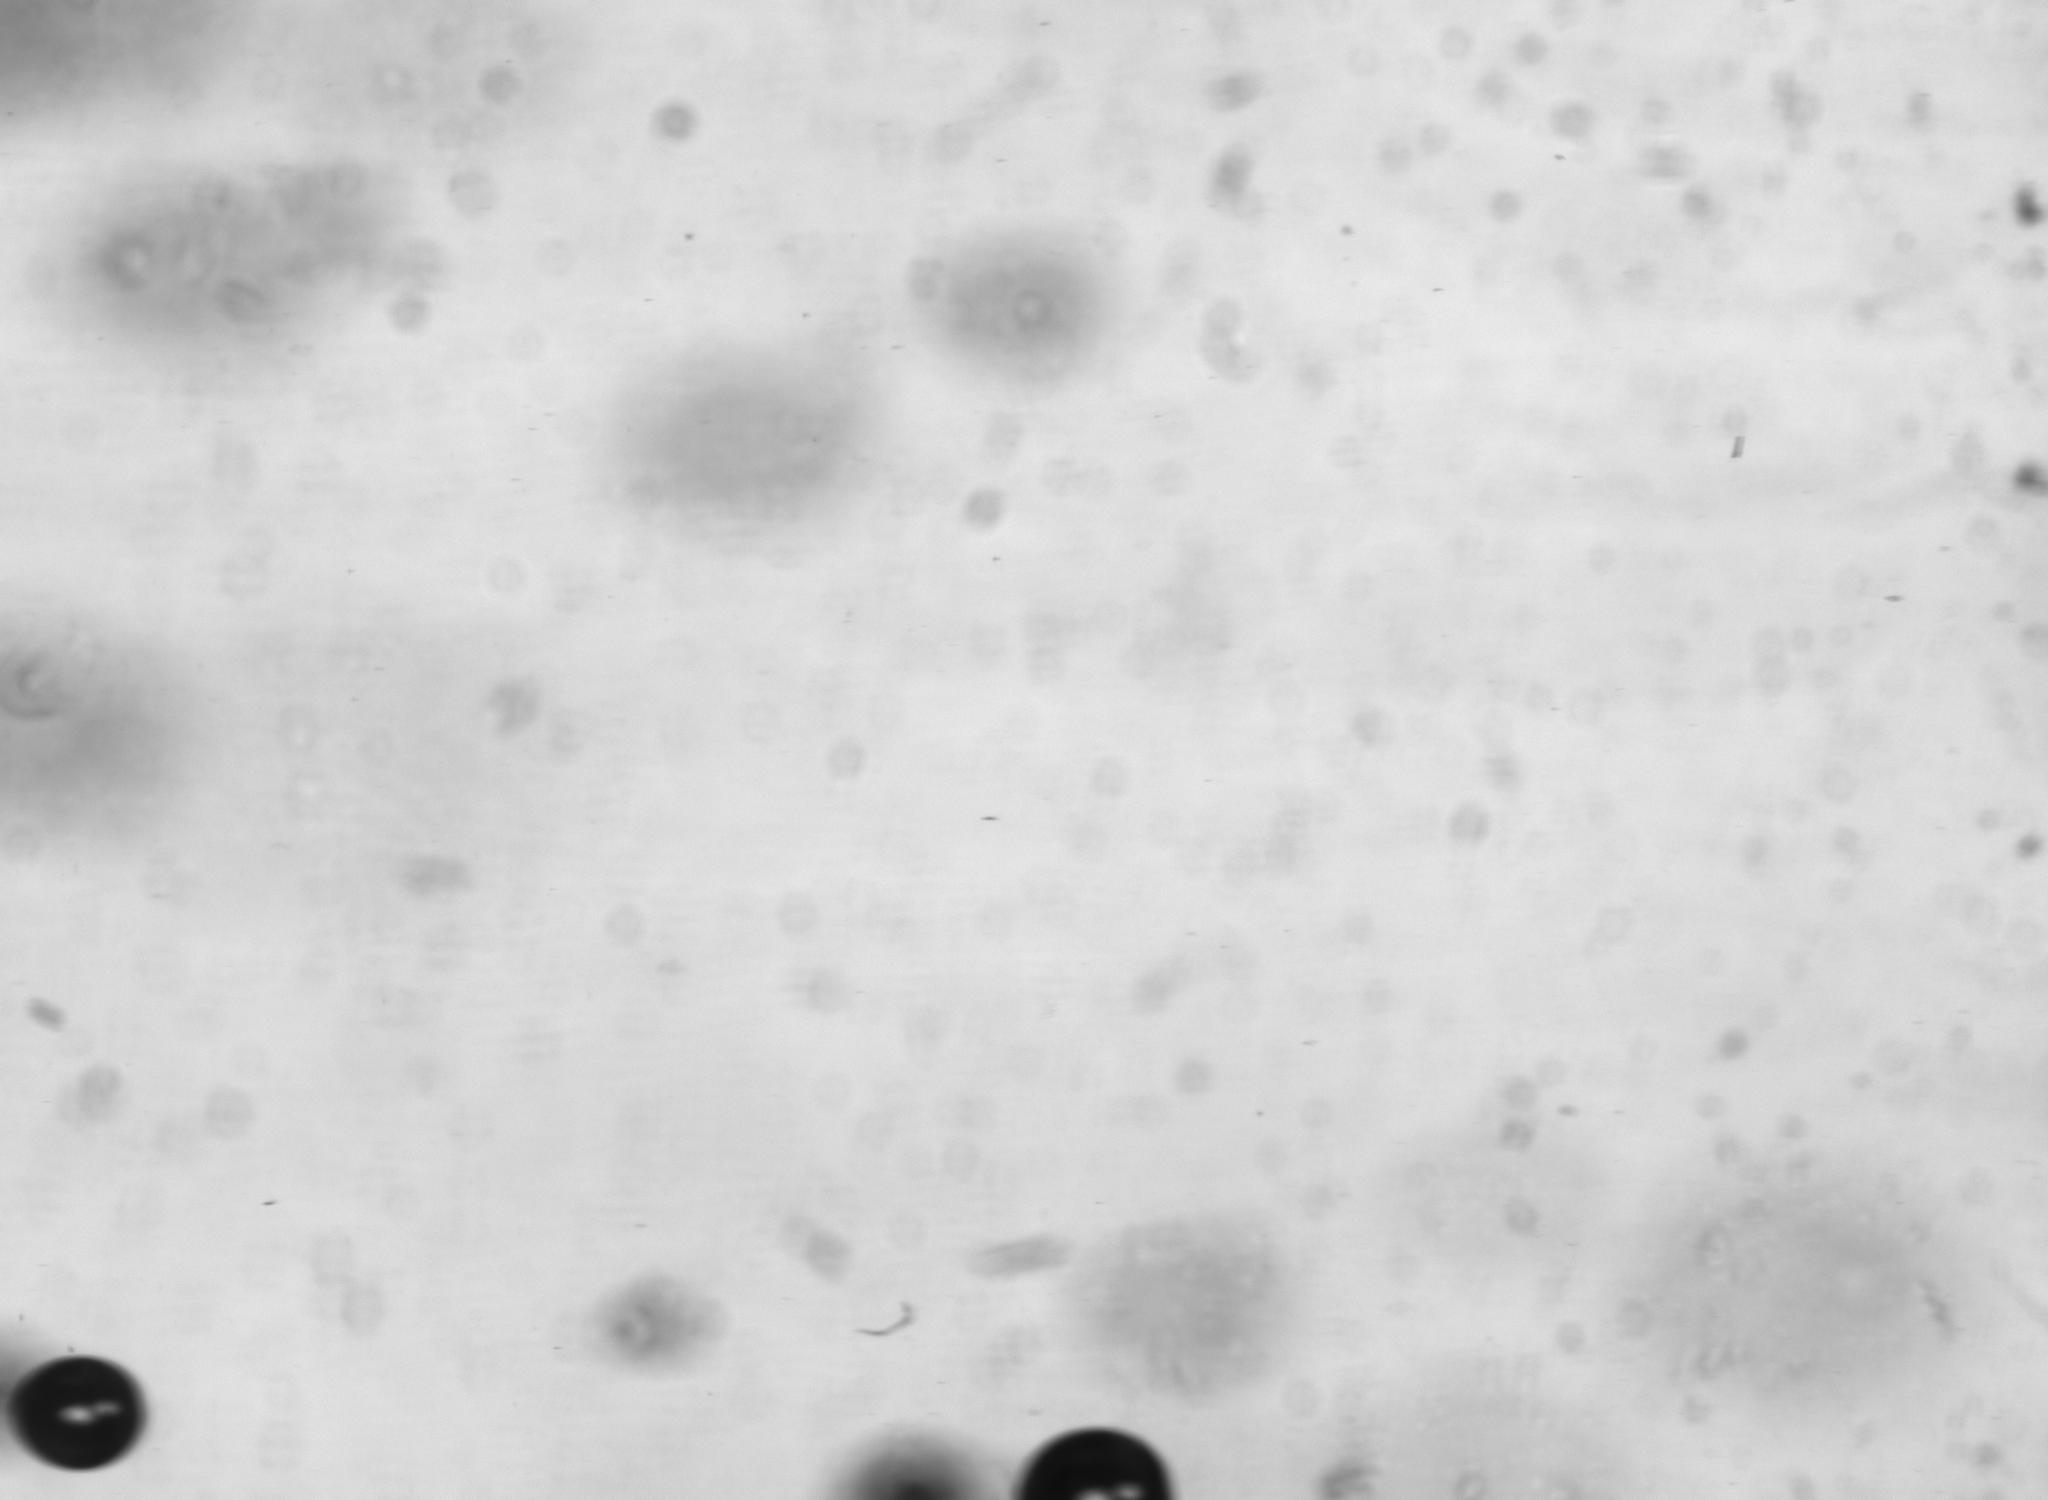bubble: (8, 1355, 145, 1470), (1016, 1427, 1173, 1500)
